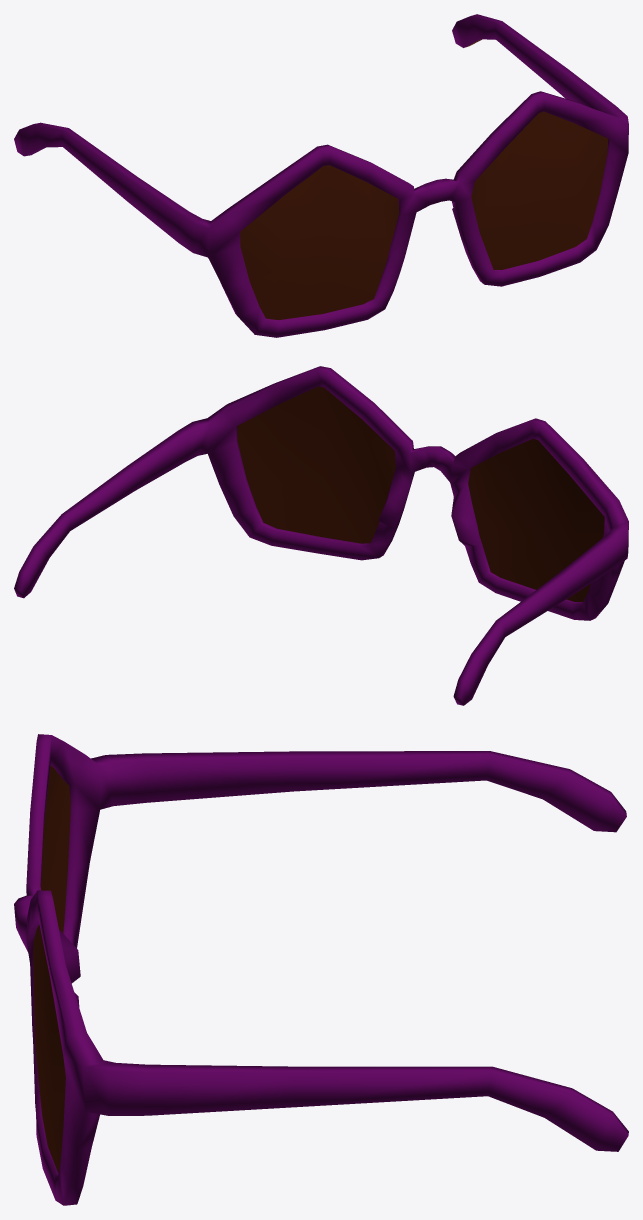
File: glazz.glb
3 renders of one model, top to bottom at view 1: azimuth 30°, elevation 25°; view 2: azimuth 150°, elevation 25°; view 3: azimuth 270°, elevation 25°, orthographic. The views are drawn at different scales.
Visible parts, largest first — view 1: m_flame1, m_lens; view 2: m_flame1, m_lens; view 3: m_flame1, m_lens.
Part boxes in pixels (x1=…): m_flame1: x1=14, y1=14, x2=628, y2=337; m_lens: x1=240, y1=111, x2=608, y2=319; m_flame1: x1=14, y1=366, x2=628, y2=705; m_lens: x1=237, y1=386, x2=604, y2=601; m_flame1: x1=14, y1=734, x2=628, y2=1205; m_lens: x1=33, y1=765, x2=70, y2=1172.
Bounding box in the file's own units: 14.84 × 5.8 × 11.78.
Materials: 3 (2 with a texture image).
